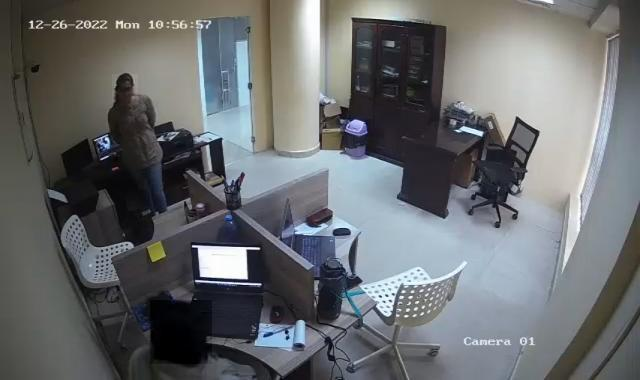no_gloves: (150, 300, 212, 364), (112, 74, 138, 103)
no_hairnet: (114, 86, 137, 106)
